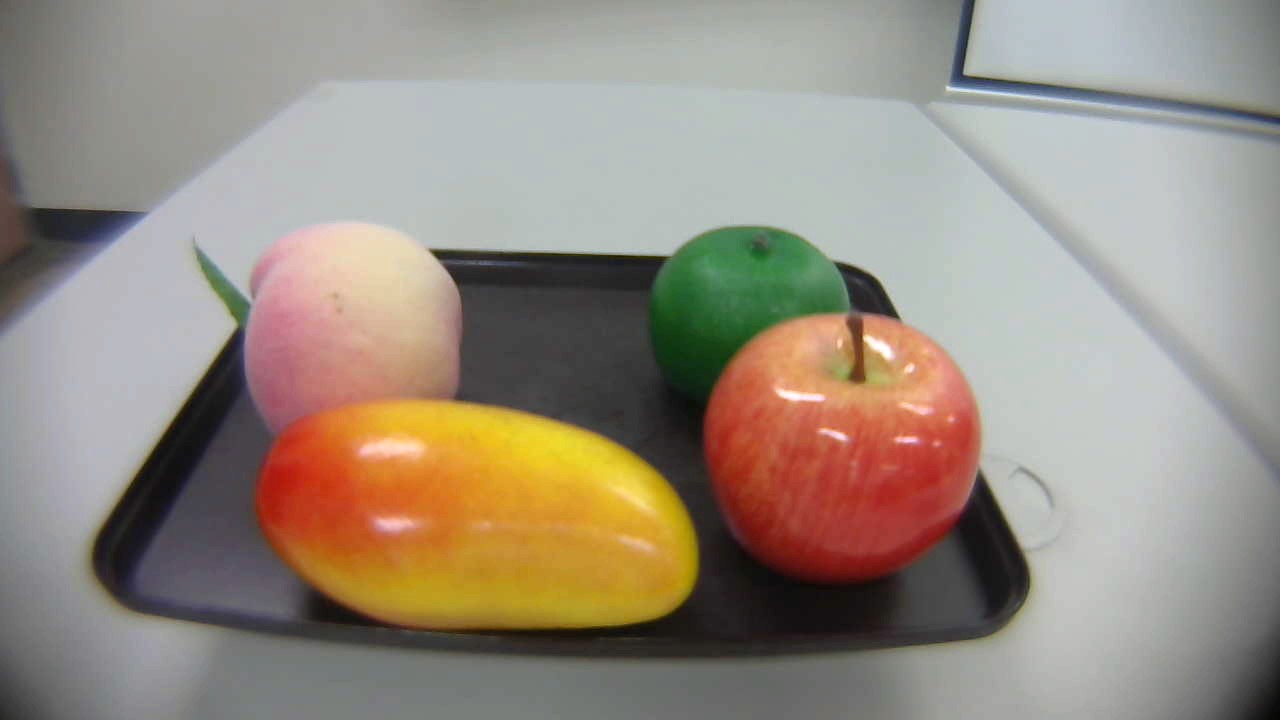green orange: (640, 214, 873, 418)
peach: (185, 214, 472, 454)
red apple: (697, 313, 983, 581)
red mango: (257, 399, 705, 633)
